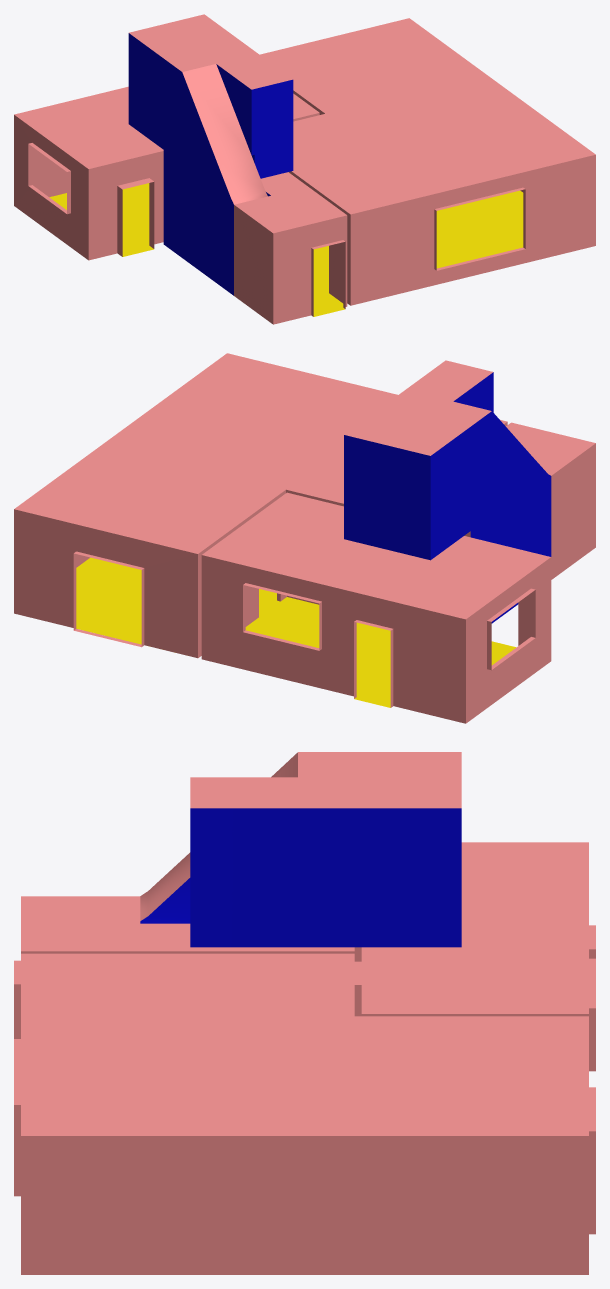
Rendered from House_Amy_Bob_Interior.FBX.
3 views of the same model, one above another, from view 1: azimuth 30°, elevation 25°; view 2: azimuth 150°, elevation 25°; view 3: azimuth 270°, elevation 25° (orthographic). The views are drawn at different scales.
Parts seen in each view (by area): view 1: House_Large_Interior_Livingroom, House_Large_Interior_Hall, House_Large_Interior_Kitchen; view 2: House_Large_Interior_Livingroom, House_Large_Interior_Kitchen, House_Large_Interior_Hall; view 3: House_Large_Interior_Livingroom, House_Large_Interior_Hall, House_Large_Interior_Kitchen.
Part boxes in pixels (x1,y1,x2,y2): House_Large_Interior_Livingroom: (260,18,595,305); House_Large_Interior_Hall: (128,14,347,324); House_Large_Interior_Kitchen: (14,86,319,260); House_Large_Interior_Livingroom: (14,353,507,658); House_Large_Interior_Kitchen: (201,492,551,723); House_Large_Interior_Hall: (344,360,595,623); House_Large_Interior_Livingroom: (14,953,595,1274); House_Large_Interior_Hall: (14,752,461,1038); House_Large_Interior_Kitchen: (354,842,595,1071).
Bounding box in the file's own units: 1236 × 550 × 1025.
